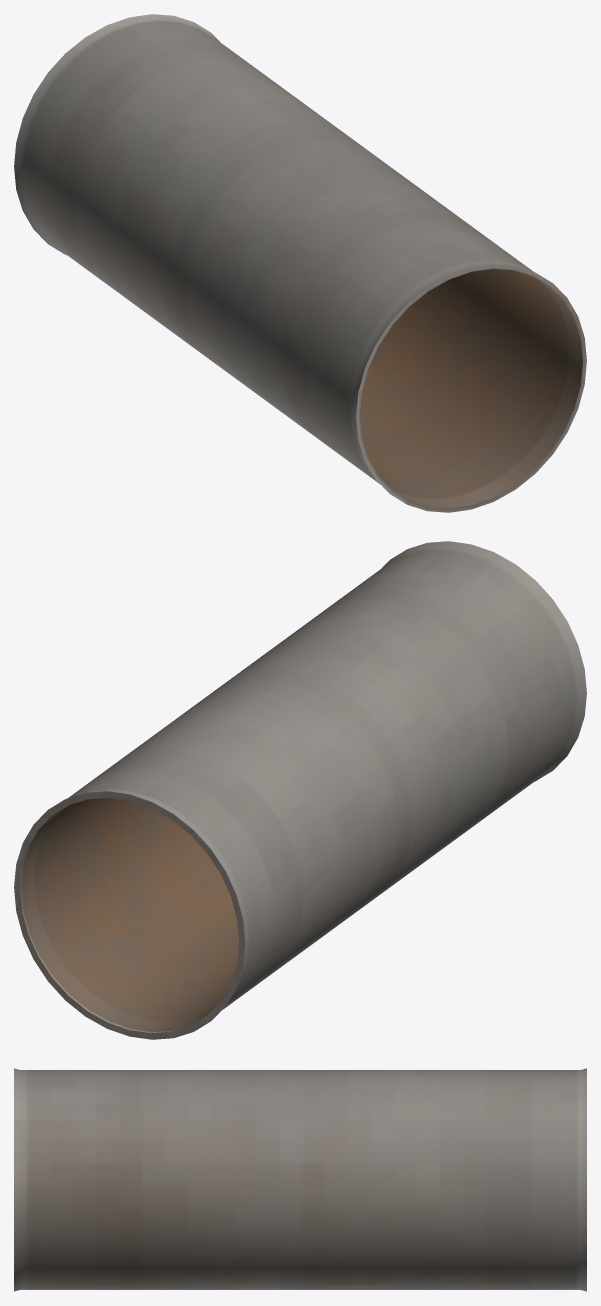
The model's file is ductLarge.fbx.
The picture shows the model from 3 angles, top to bottom: view 1: azimuth 30°, elevation 25°; view 2: azimuth 150°, elevation 25°; view 3: azimuth 270°, elevation 25°; orthographic projection. The views are drawn at different scales.
Visible parts, largest first — view 1: ductLong; view 2: ductLong; view 3: ductLong.
Part boxes in pixels (x1,y1,x2,y2): ductLong: (14,14,586,512); ductLong: (14,541,586,1039); ductLong: (14,1068,586,1291).
Bounding box in the file's own units: 0.6971 × 0.2723 × 0.2725.
